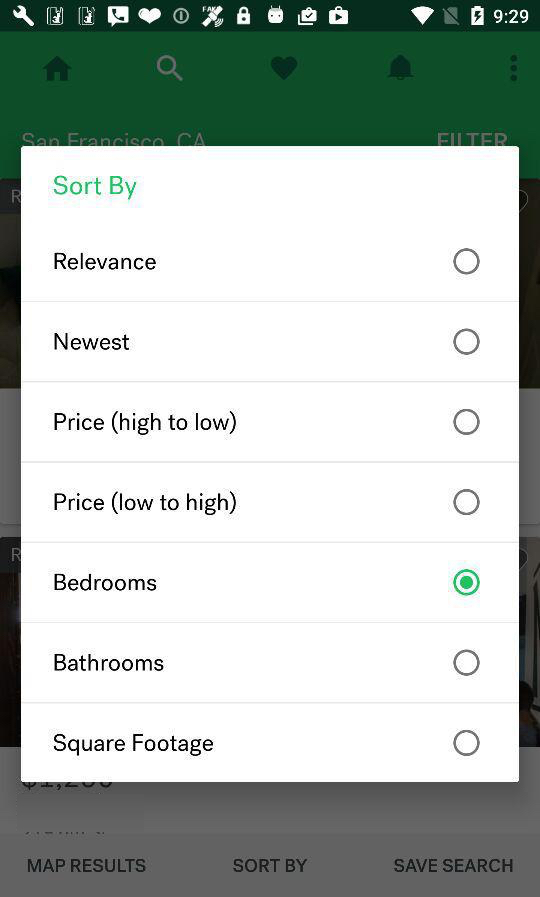CheckedTextView: (54, 329, 480, 356), (54, 730, 480, 757), (55, 409, 480, 436), (55, 489, 480, 516), (55, 569, 480, 596), (54, 650, 480, 676), (55, 249, 480, 275)
Modal: (22, 147, 519, 782)
Text: (55, 491, 237, 516), (55, 411, 237, 435), (54, 734, 214, 757), (54, 176, 137, 201), (54, 654, 164, 672), (55, 253, 157, 271), (55, 574, 157, 592), (393, 858, 513, 873), (28, 858, 147, 873), (54, 333, 131, 351), (233, 858, 308, 873)
UpperTaskBar: (1, 1, 540, 33)
